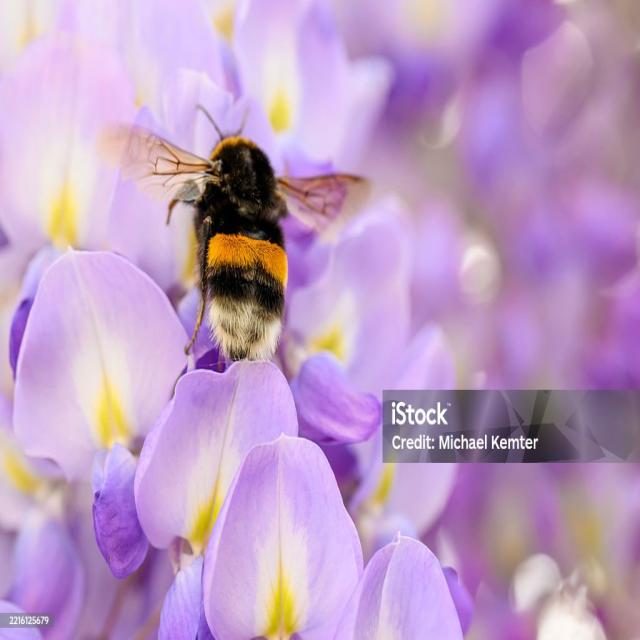bee: (98, 99, 378, 362)
